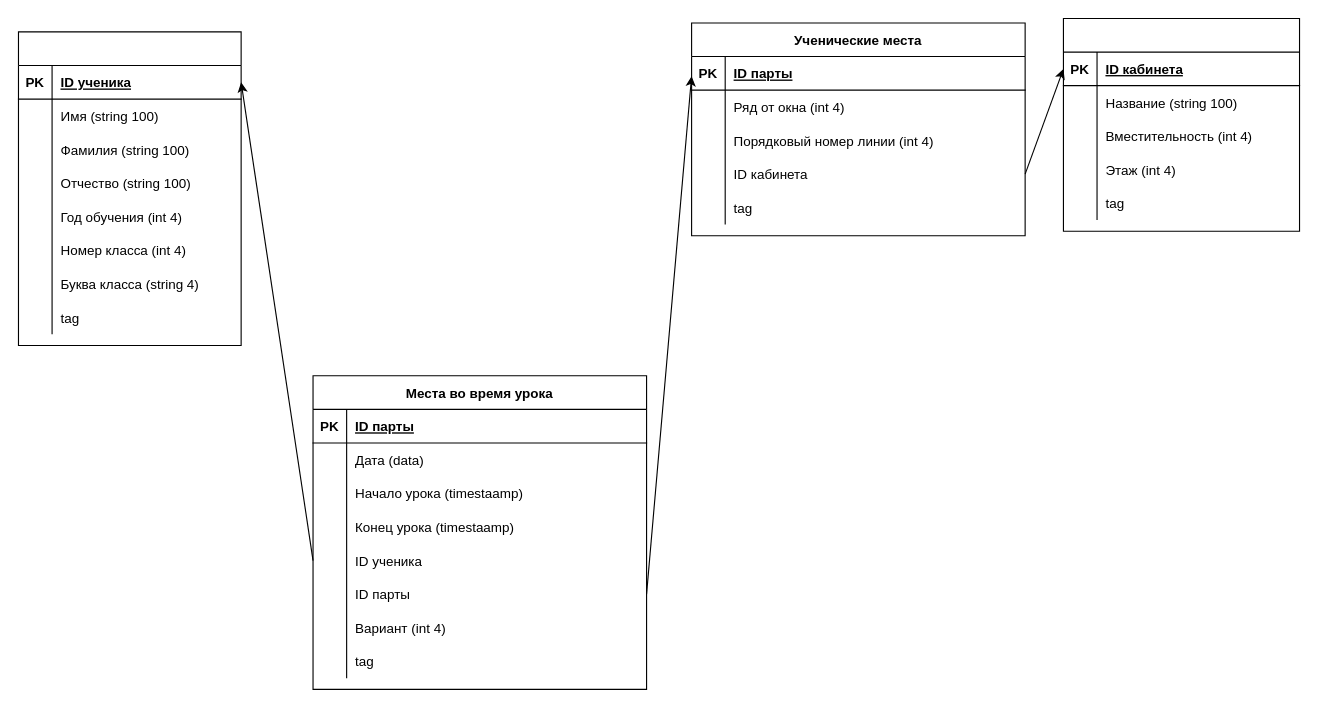
This 1318x708 diagram has some shape labels left out. Here are the shapes that lost their labels. From the top down, the box of each, then its label:
(1062, 17, 1300, 231): Кабинеты
(17, 31, 241, 346): Ученики
